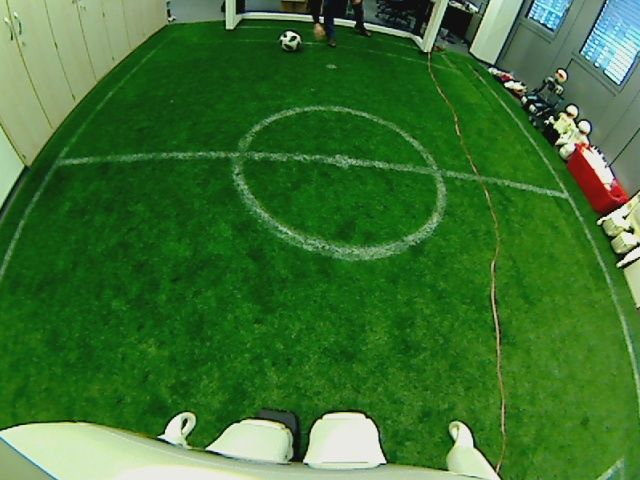ball: (277, 30, 303, 53)
